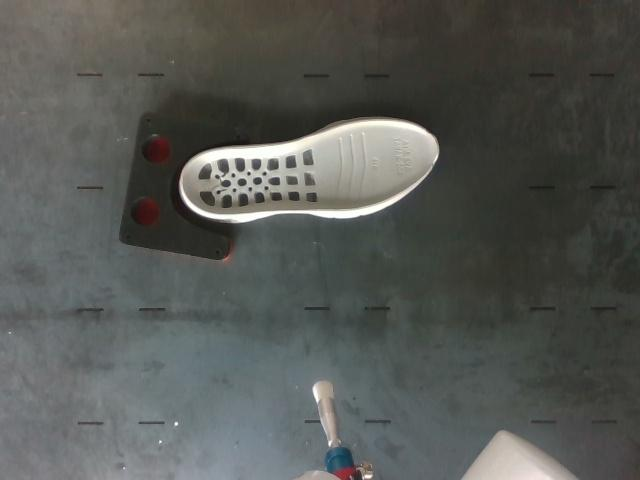shoes: (182, 121, 437, 215)
